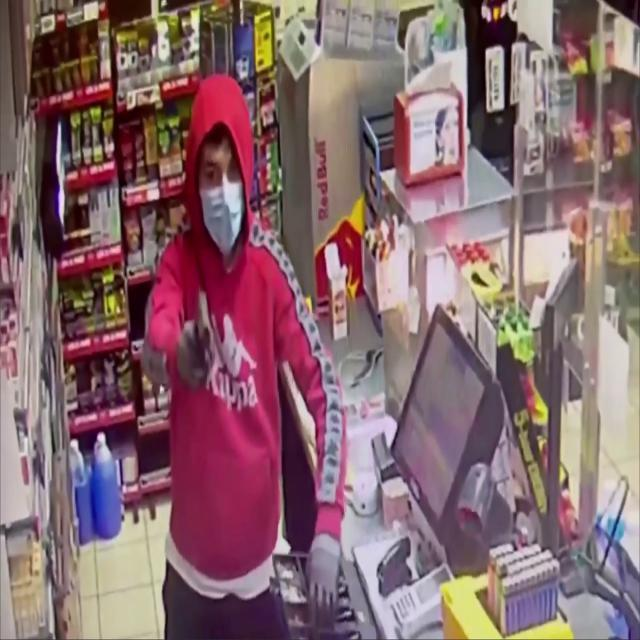gun: (196, 290, 210, 376)
